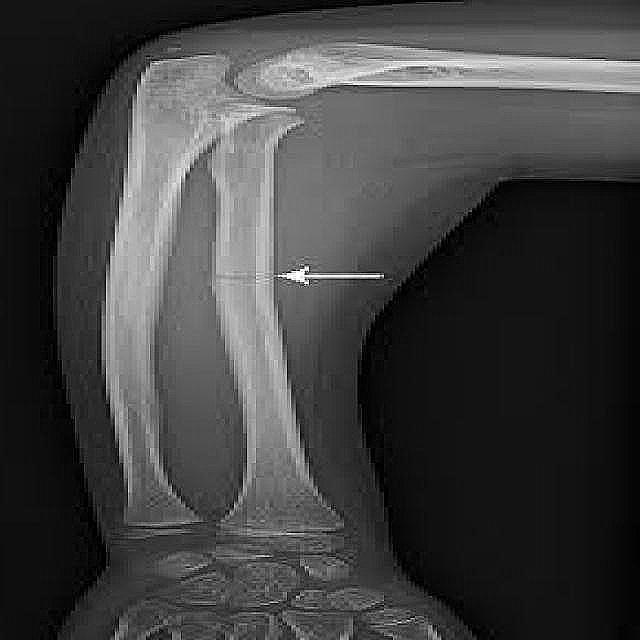bone: (206, 226, 284, 324)
